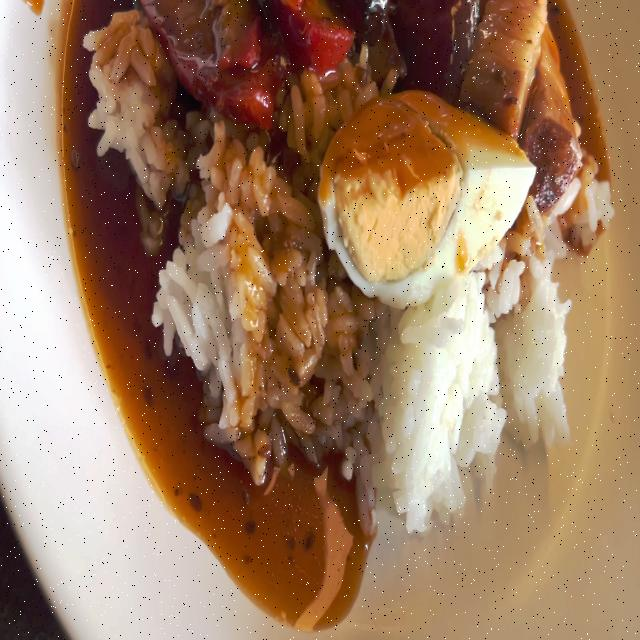boiled_egg: (320, 98, 526, 286)
chainese_sausage: (341, 0, 477, 101)
crispy_pork: (477, 0, 572, 195)
red_pork: (143, 0, 336, 115)
red_pork_and_crispy_pork: (79, 0, 615, 532)
rice: (329, 290, 569, 511), (166, 132, 322, 468), (90, 16, 170, 187)
